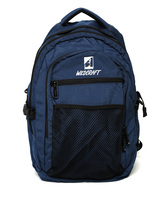bag: (21, 8, 150, 187)
